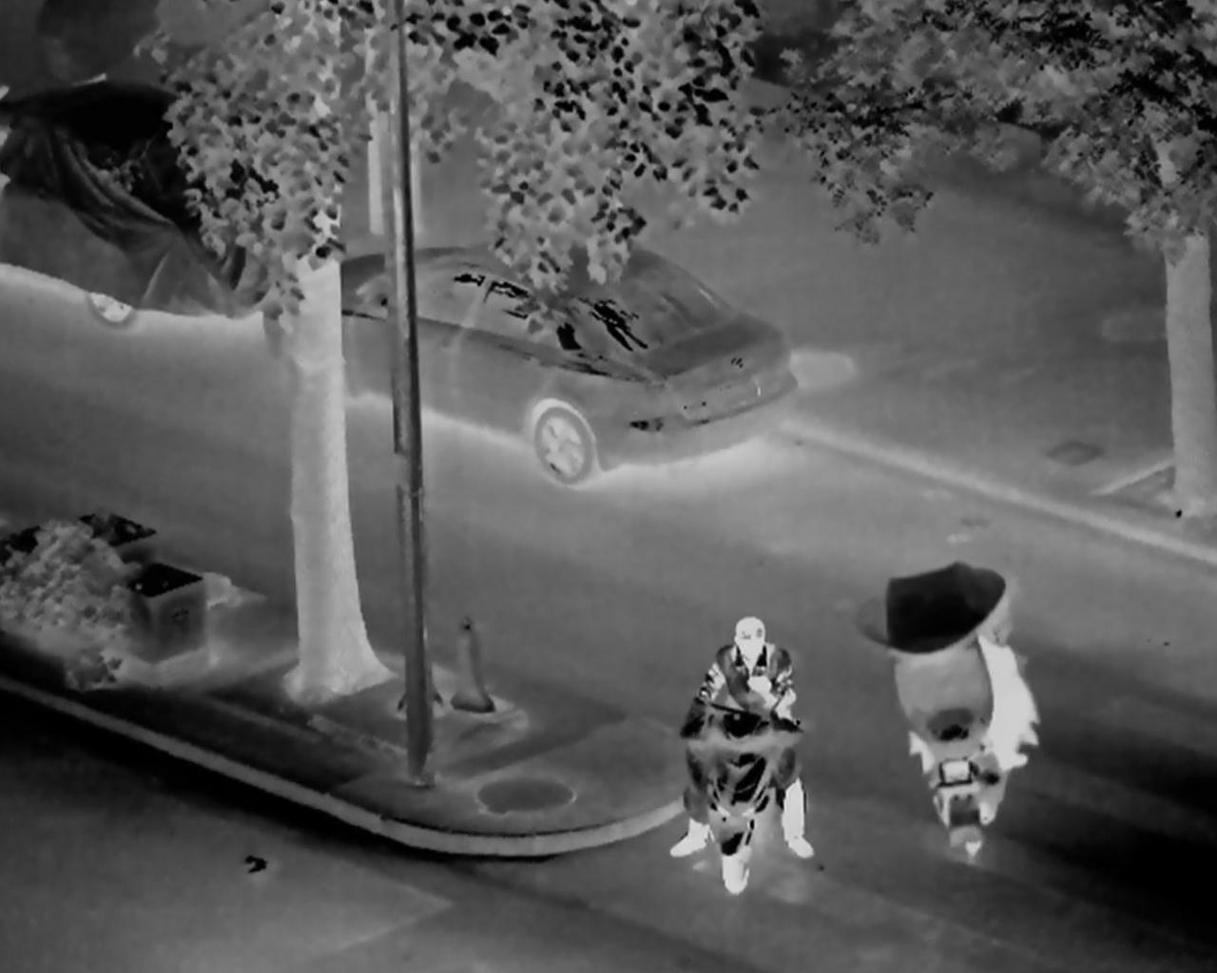person: (655, 609, 817, 895), (888, 645, 1037, 770)
